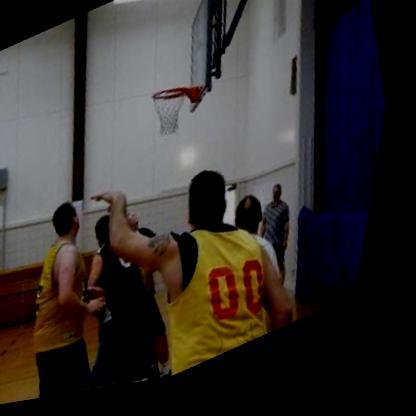basketball: (145, 0, 187, 7)
